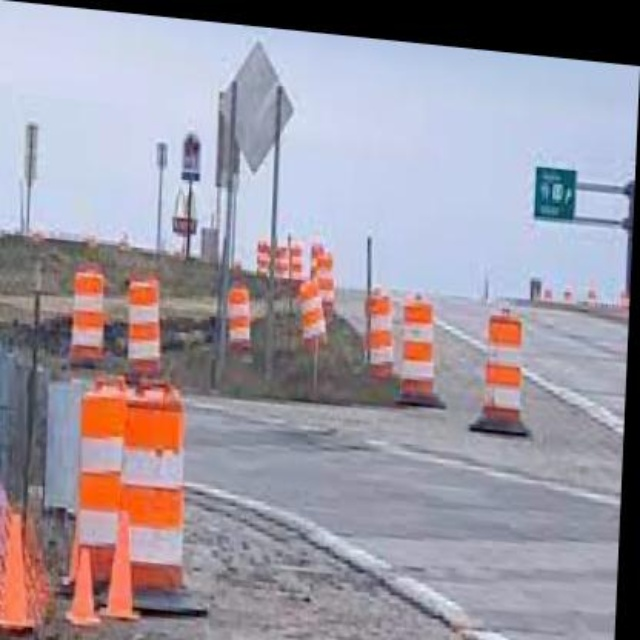obstacle: (110, 346, 203, 596), (481, 292, 532, 425), (396, 281, 443, 399)
